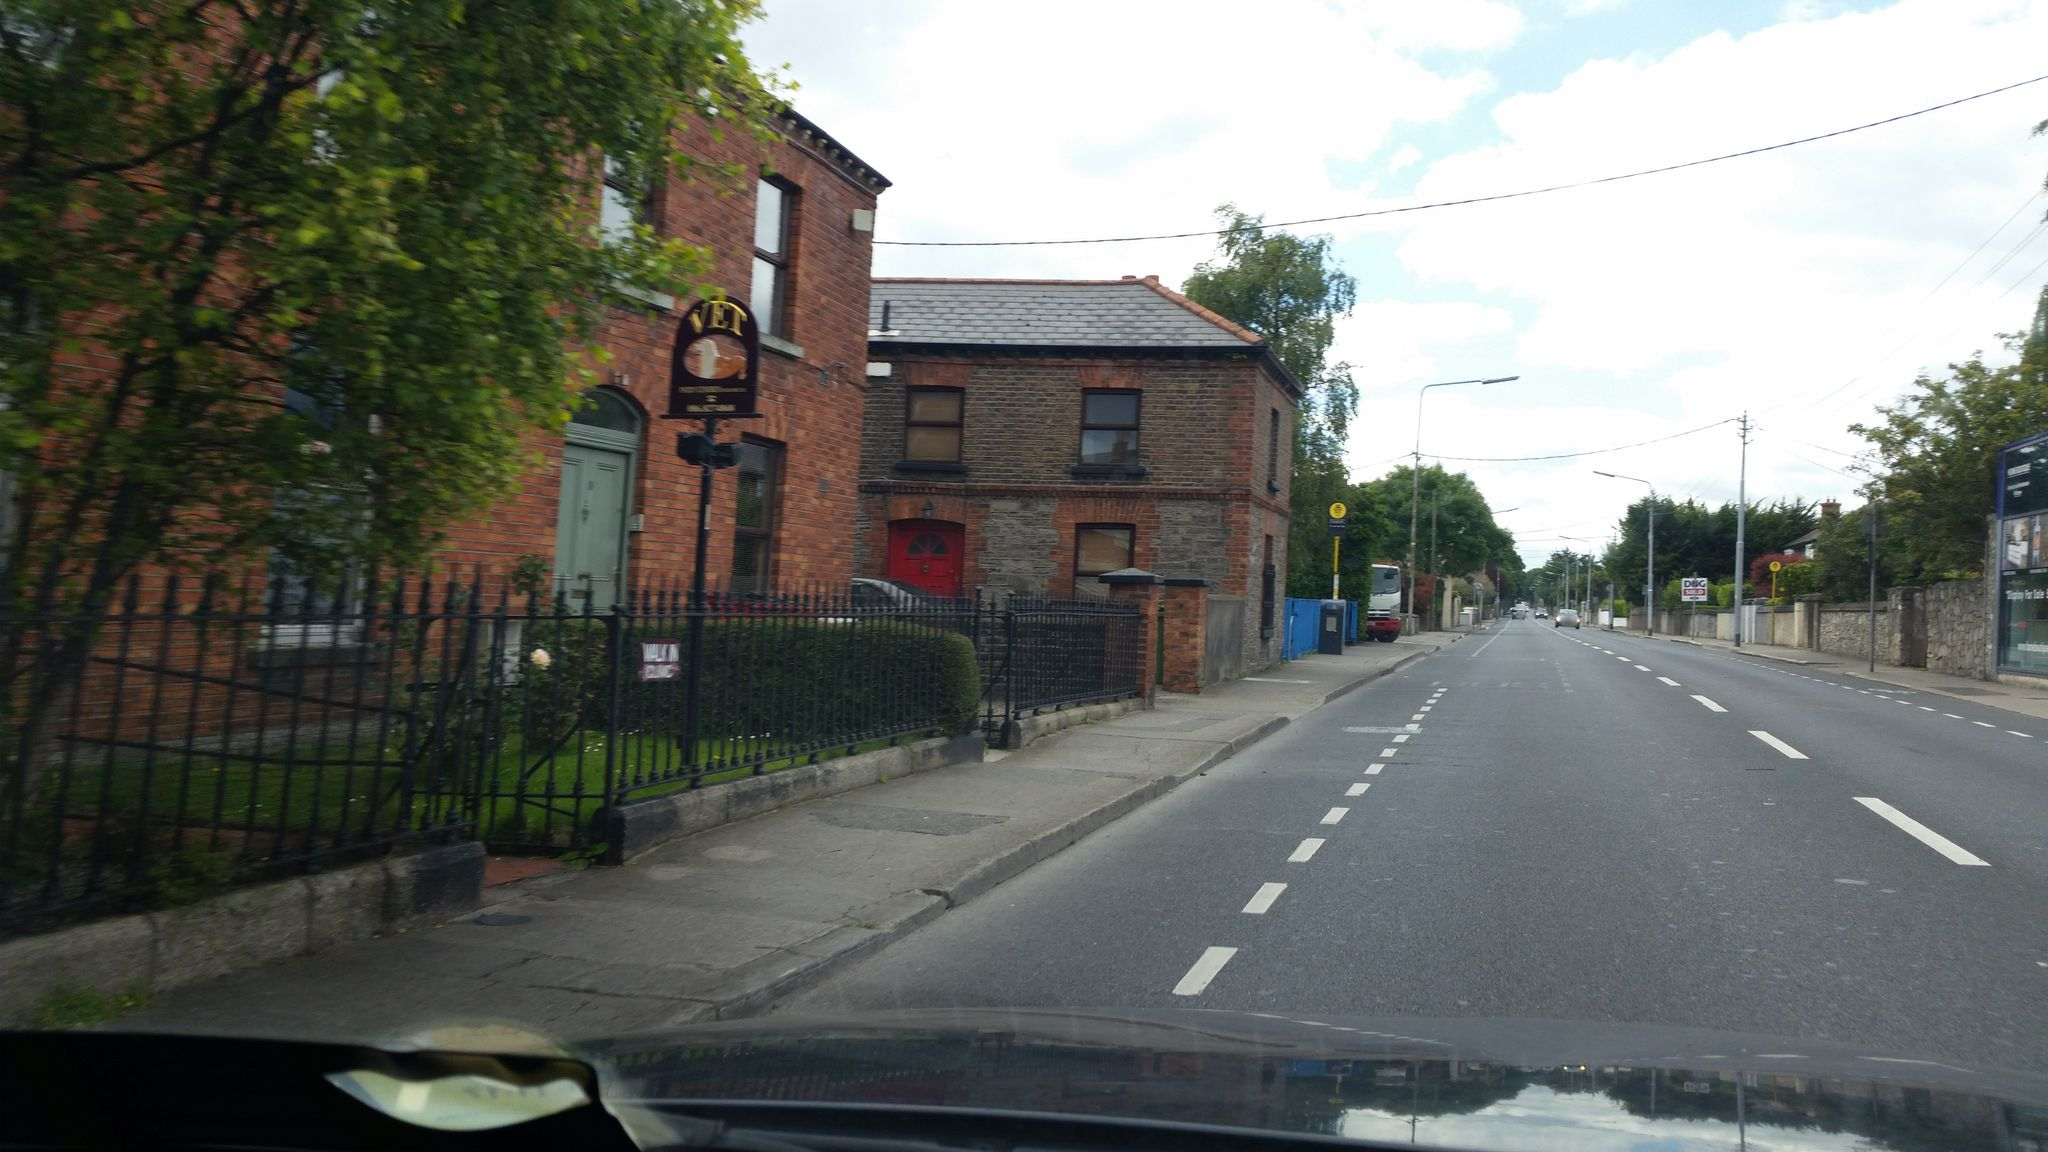property sign: (1670, 554, 1720, 608)
